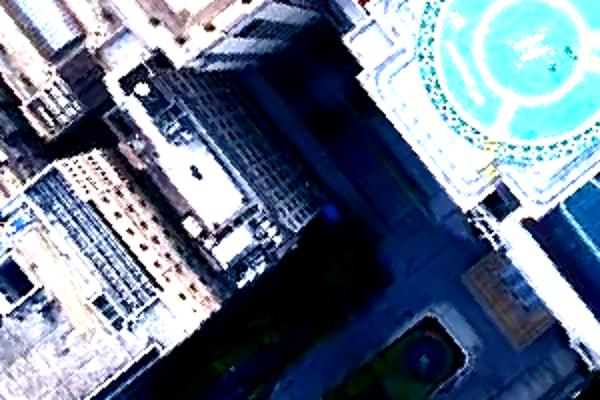Apron: (469, 1, 599, 122)
